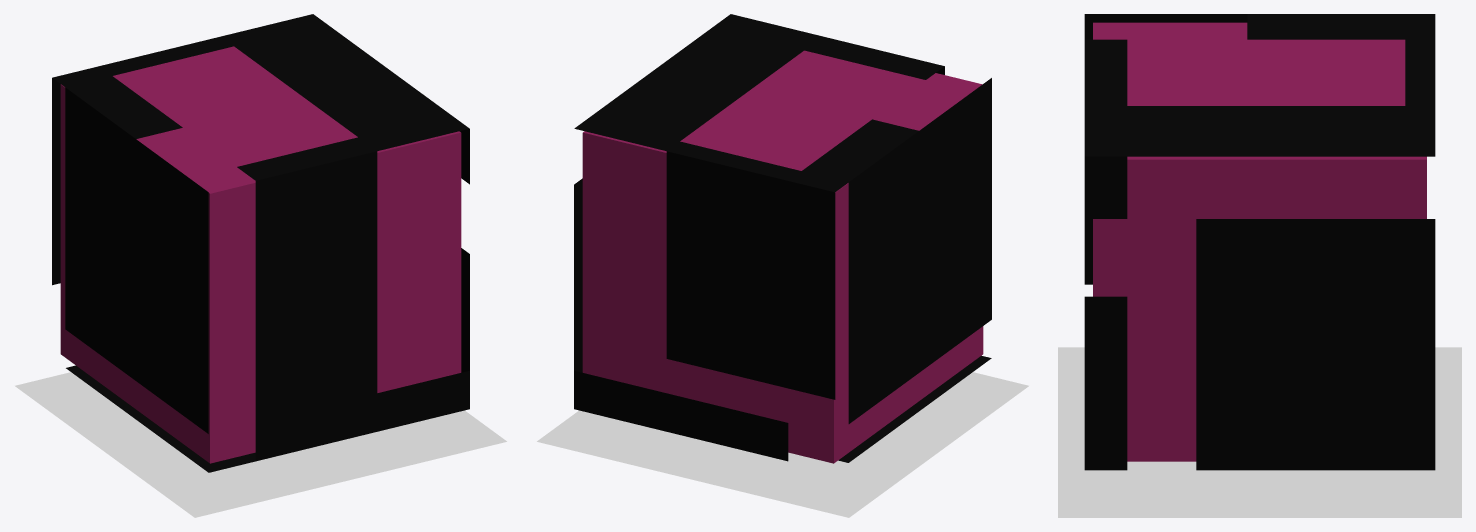
File: oneBox.fbx
The picture shows the model from 3 angles, left to right: view 1: azimuth 30°, elevation 25°; view 2: azimuth 150°, elevation 25°; view 3: azimuth 270°, elevation 25°; orthographic projection. The views are drawn at different scales.
Visible parts, largest first — view 1: Plane; view 2: Plane; view 3: Plane.
Boxes of the visible parts, box(x1,y1,x2,y2) form: Plane: box(15, 14, 506, 517); Plane: box(537, 14, 1028, 517); Plane: box(1058, 14, 1461, 517).
Size of the model in its own units: 129 by 122 by 129.
